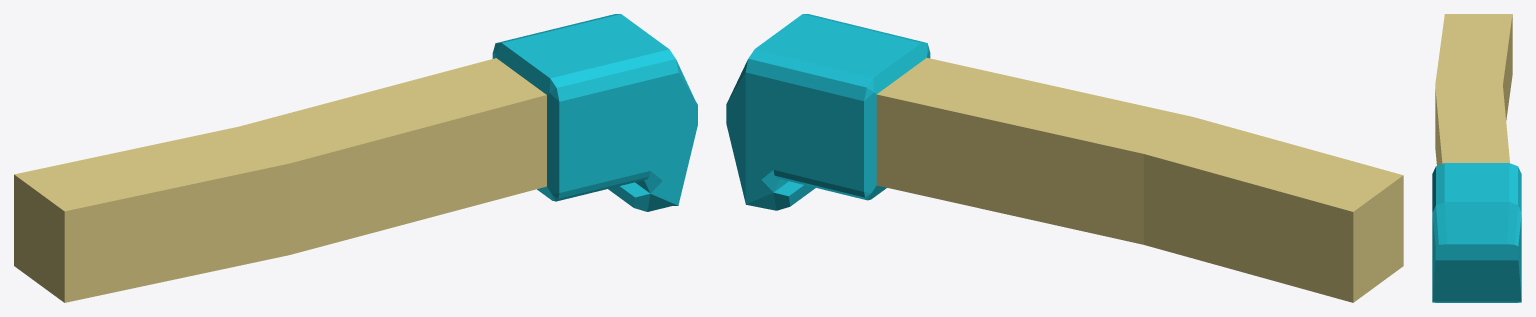
The model's file is Cross.glb.
The picture shows the model from 3 angles, left to right: view 1: azimuth 30°, elevation 25°; view 2: azimuth 150°, elevation 25°; view 3: azimuth 270°, elevation 25°; orthographic projection. The views are drawn at different scales.
Parts seen in each view (by area): view 1: Cross_Model; view 2: Cross_Model; view 3: Cross_Model.
Boxes of the visible parts, bbox=[...] form: Cross_Model: bbox=[14, 14, 697, 302]; Cross_Model: bbox=[726, 14, 1403, 302]; Cross_Model: bbox=[1432, 14, 1521, 302].
Bounding box in the file's own units: 6.17 × 1.43 × 1.14.
1 material, 1 textured.
